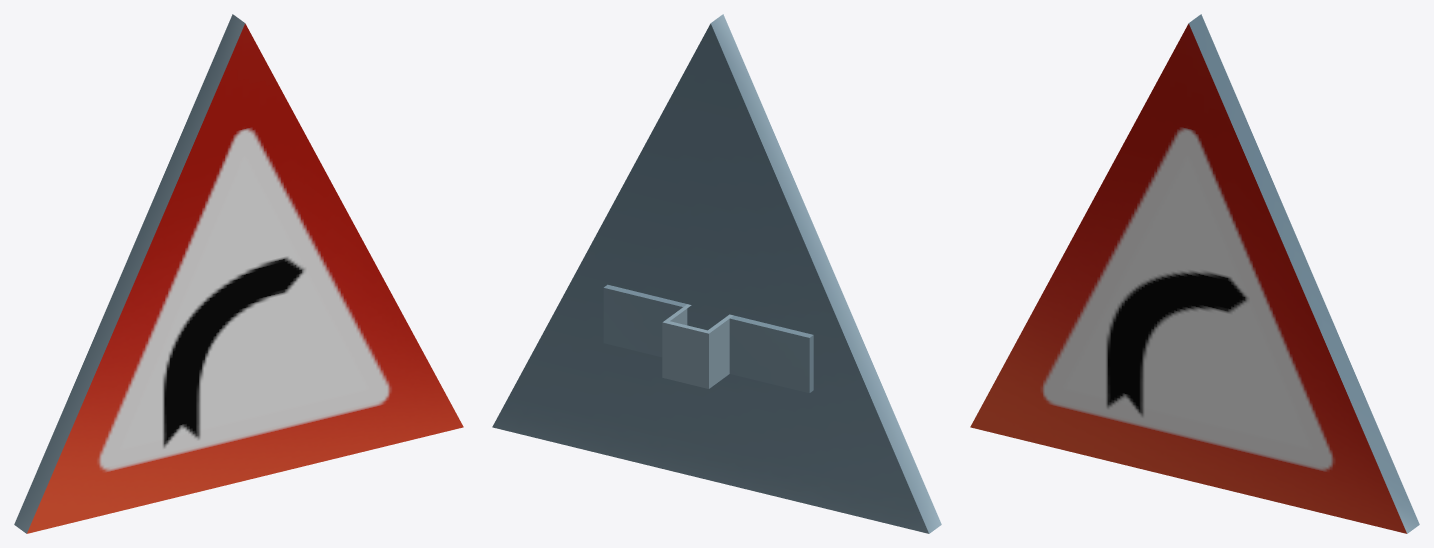
Rendered from Sign6Austrian.fbx.
3 renders of one model, left to right at view 1: azimuth 30°, elevation 25°; view 2: azimuth 150°, elevation 25°; view 3: azimuth 330°, elevation 25°, orthographic.
Visible parts, largest first — view 1: Sign6Austrian; view 2: Sign6Austrian; view 3: Sign6Austrian.
Part boxes in pixels (left/top/right/bottom): Sign6Austrian: left=14, top=14, right=463, bottom=533; Sign6Austrian: left=492, top=14, right=941, bottom=533; Sign6Austrian: left=970, top=14, right=1419, bottom=533.
Size of the model in its own units: 1 by 1 by 0.1489.
